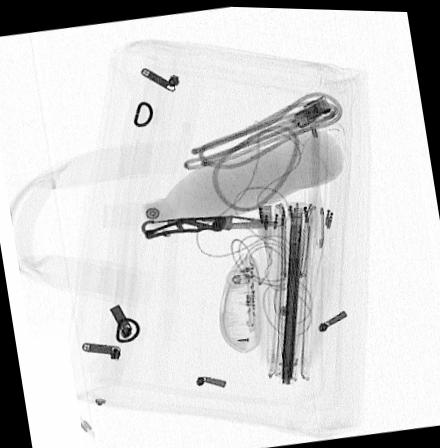Knife: (140, 213, 279, 239)
